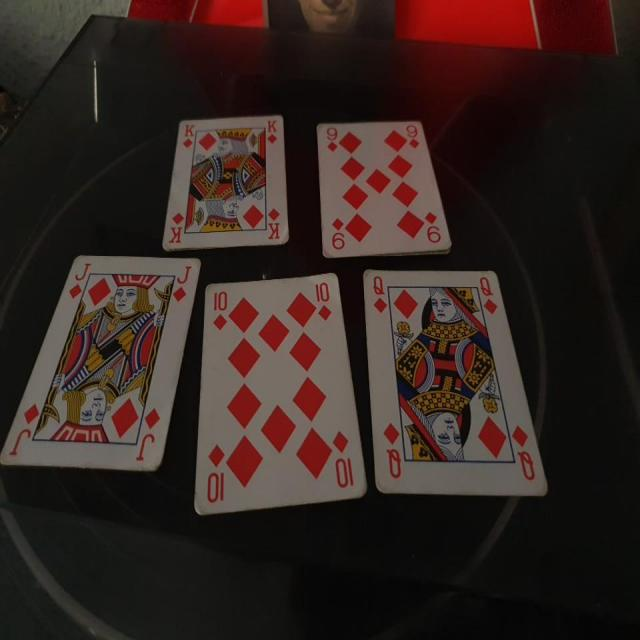10 Diamonds: (191, 270, 366, 518)
9 Diamonds: (316, 116, 454, 260)
J Diamonds: (1, 252, 201, 473)
K Diamonds: (161, 114, 290, 250)
Q Diamonds: (361, 264, 550, 501)
